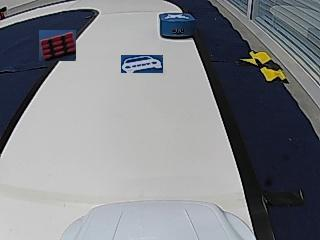prop: (159, 13, 196, 39)
